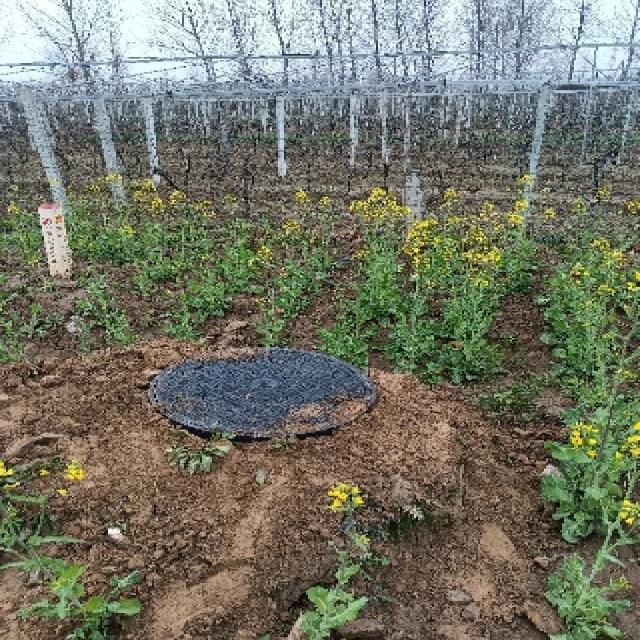Good: (138, 346, 396, 439)
